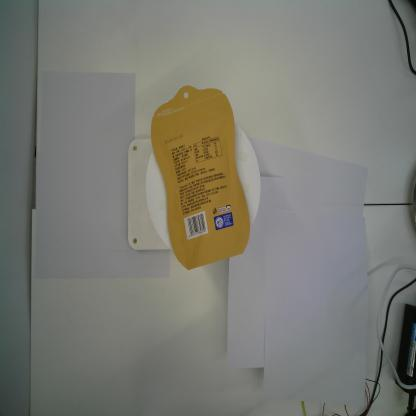Dried Fruit: (150, 84, 250, 270)
